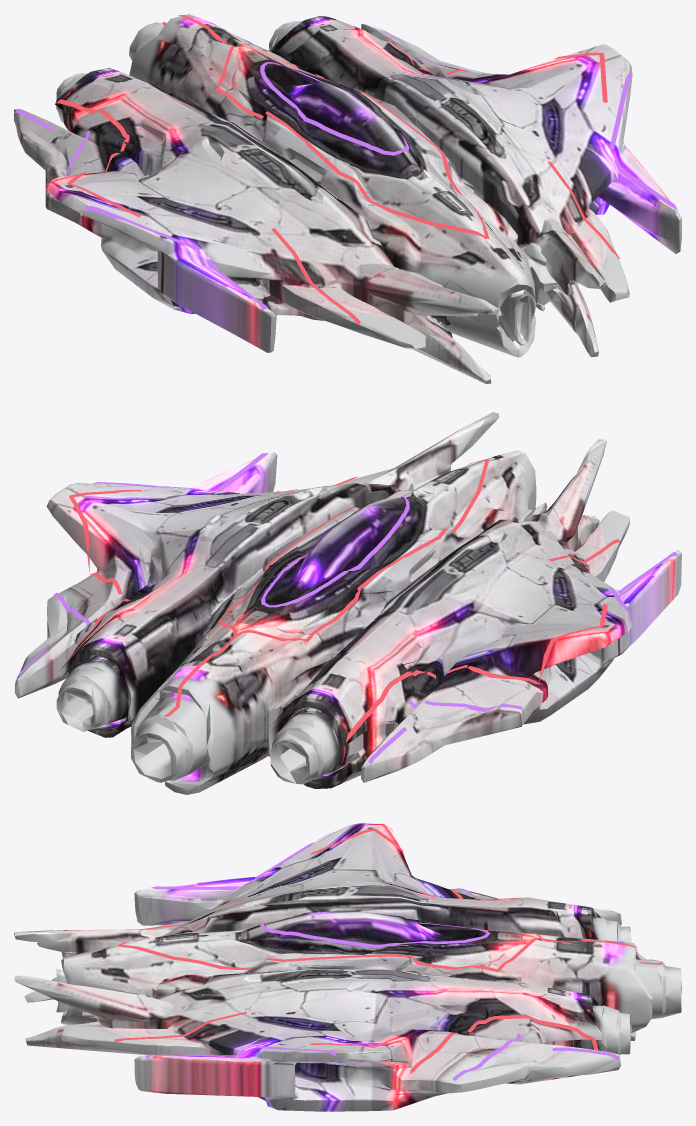
Rendered from megaboss_smooth.glb.
3 renders of one model, top to bottom at view 1: azimuth 30°, elevation 25°; view 2: azimuth 150°, elevation 25°; view 3: azimuth 270°, elevation 25°, orthographic. The views are drawn at different scales.
Parts seen in each view (by area): view 1: hull, strip_red, strip_violet; view 2: hull, strip_red, strip_violet; view 3: hull, strip_red, strip_violet.
Part boxes in pixels (x1=…): hull: x1=14, y1=14, x2=681, y2=383; strip_red: x1=56, y1=15, x2=620, y2=324; strip_violet: x1=15, y1=26, x2=677, y2=310; hull: x1=14, y1=412, x2=681, y2=794; strip_red: x1=69, y1=459, x2=620, y2=742; strip_violet: x1=15, y1=452, x2=677, y2=764; hull: x1=14, y1=823, x2=681, y2=1111; strip_red: x1=114, y1=828, x2=662, y2=1074; strip_violet: x1=145, y1=832, x2=619, y2=1080.
Bounding box in the file's own units: 29.93 × 8.63 × 36.47.
3 materials, 1 textured.
